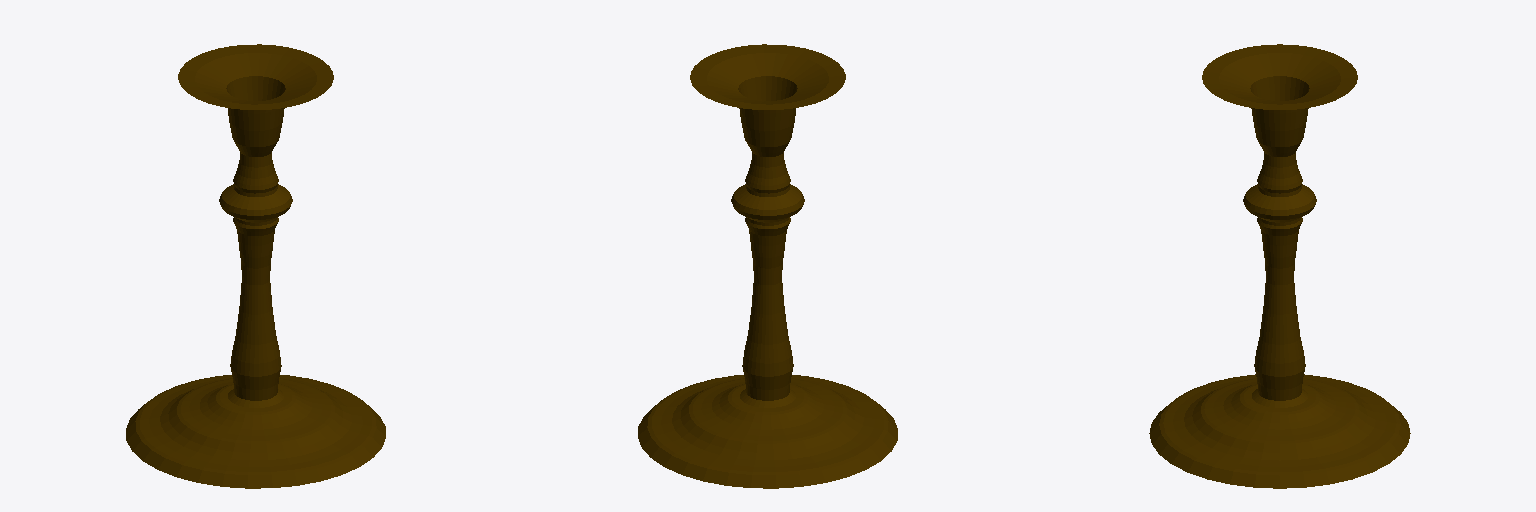
File: candlestick.obj
3 views of the same model, side by side, from view 1: azimuth 30°, elevation 25°; view 2: azimuth 150°, elevation 25°; view 3: azimuth 270°, elevation 25° (orthographic).
Visible parts, largest first — view 1: candlestick_Cylinder; view 2: candlestick_Cylinder; view 3: candlestick_Cylinder.
Part boxes in pixels (left/top/right/bottom): candlestick_Cylinder: left=126, top=44, right=385, bottom=488; candlestick_Cylinder: left=638, top=44, right=897, bottom=488; candlestick_Cylinder: left=1149, top=44, right=1410, bottom=488.
Size of the model in its own units: 2.73 by 4.11 by 2.73.